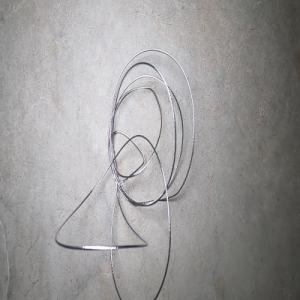Wire: (55, 47, 194, 300)
